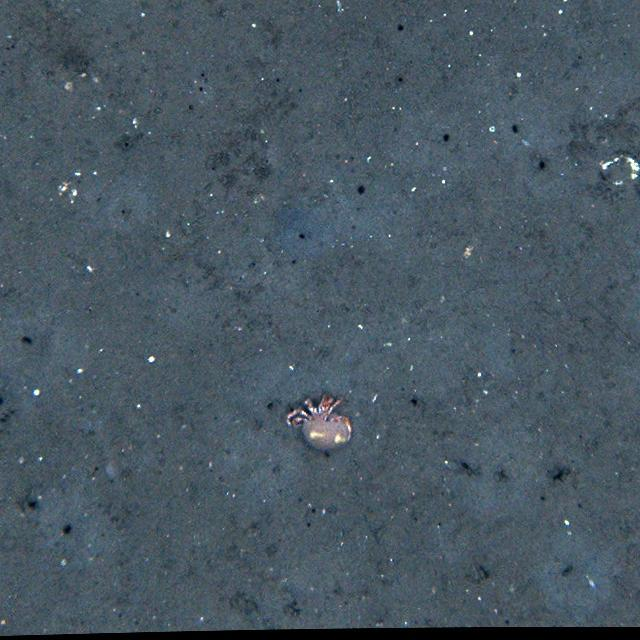crab: (279, 392, 357, 449)
